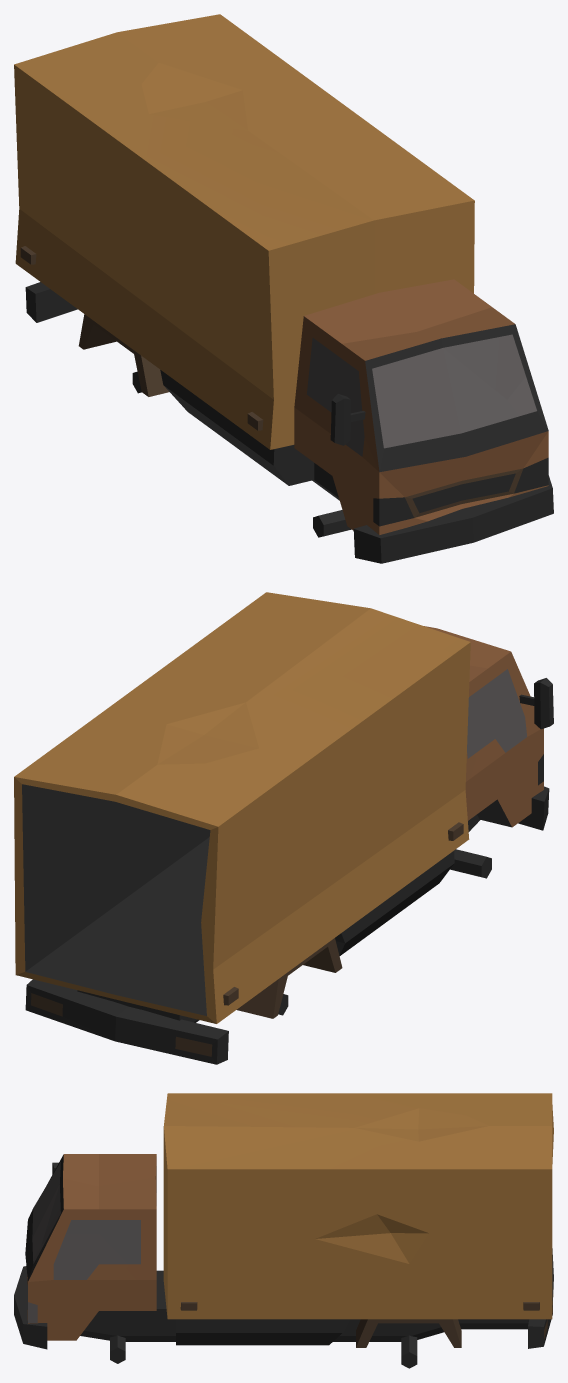
File: apocalypse_truck-broken.fbx
3 renders of one model, top to bottom at view 1: azimuth 30°, elevation 25°; view 2: azimuth 150°, elevation 25°; view 3: azimuth 270°, elevation 25°, orthographic. The views are drawn at different scales.
Visible parts, largest first — view 1: apocalypse_truck_broken; view 2: apocalypse_truck_broken; view 3: apocalypse_truck_broken.
Part boxes in pixels (bbox=[...]): apocalypse_truck_broken: bbox=[14, 14, 553, 563]; apocalypse_truck_broken: bbox=[14, 592, 553, 1064]; apocalypse_truck_broken: bbox=[14, 1093, 553, 1368].
Bounding box in the file's own units: 70.06 × 84.57 × 200.
